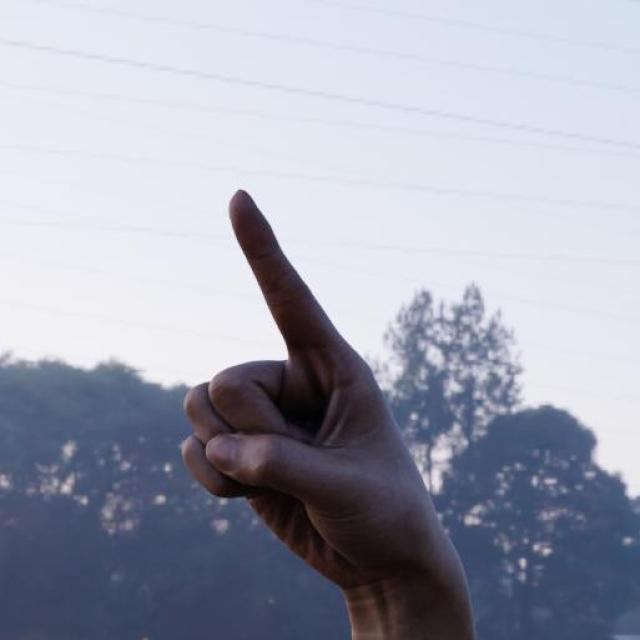Z: (179, 187, 439, 596)
